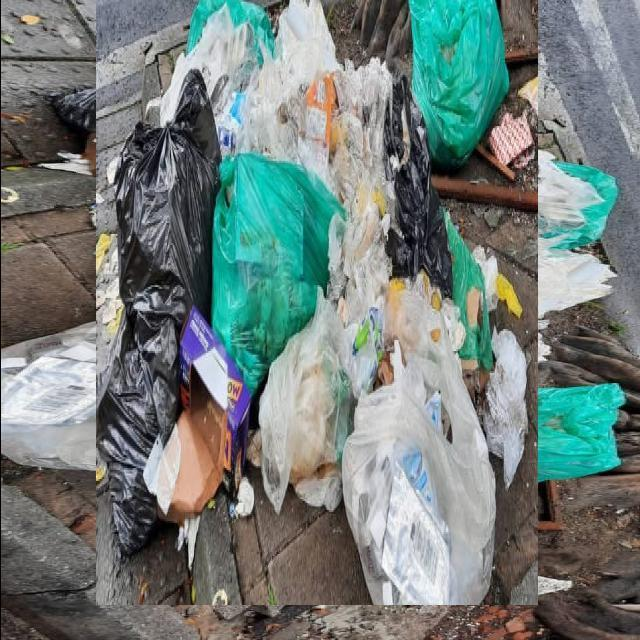Trashbag: (100, 71, 226, 310), (91, 290, 192, 555), (384, 146, 454, 299)
